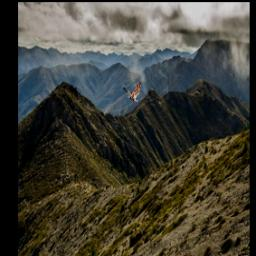Sparrow: (123, 81, 142, 102)
